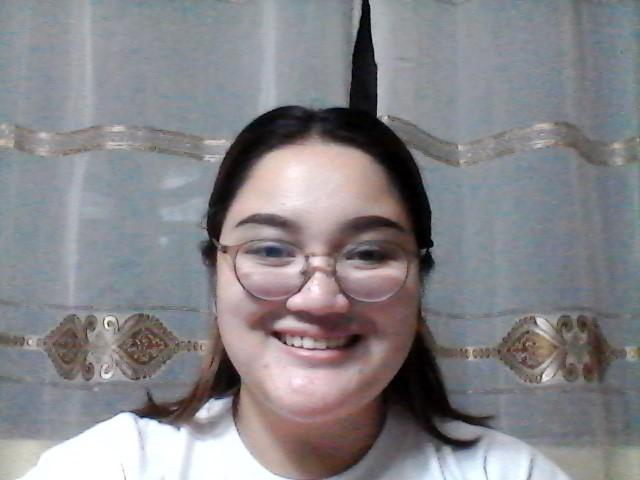senang: (202, 138, 428, 427)
